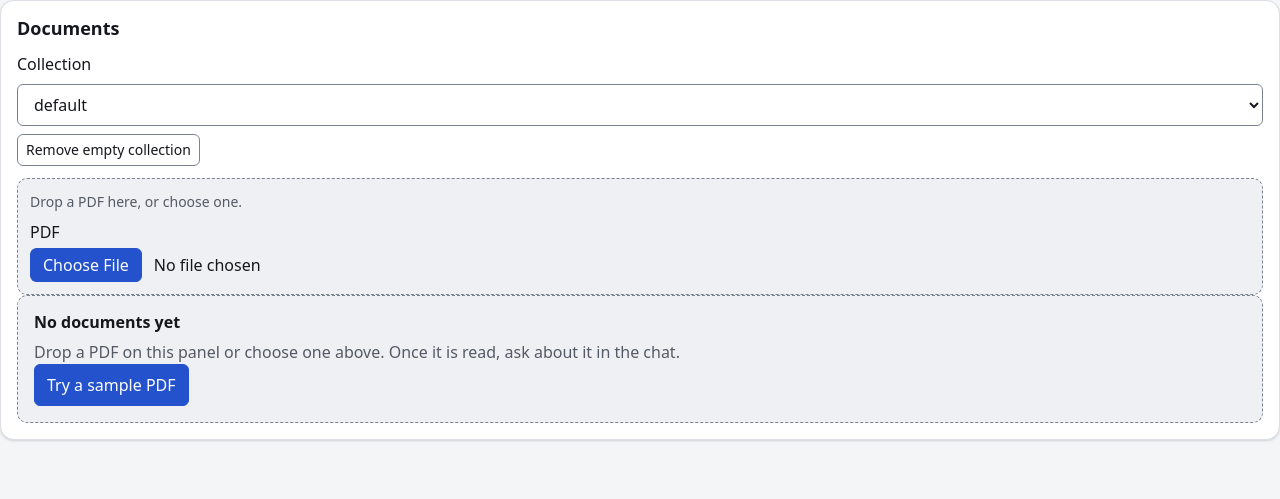
DocumentsPanel › sample PDF › says so, and uploads nothing, when the sample is missing
The width and height of the screenshot is (1280, 499).
Click the button "Try a sample PDF" at (111,384), box [34, 364, 189, 406]
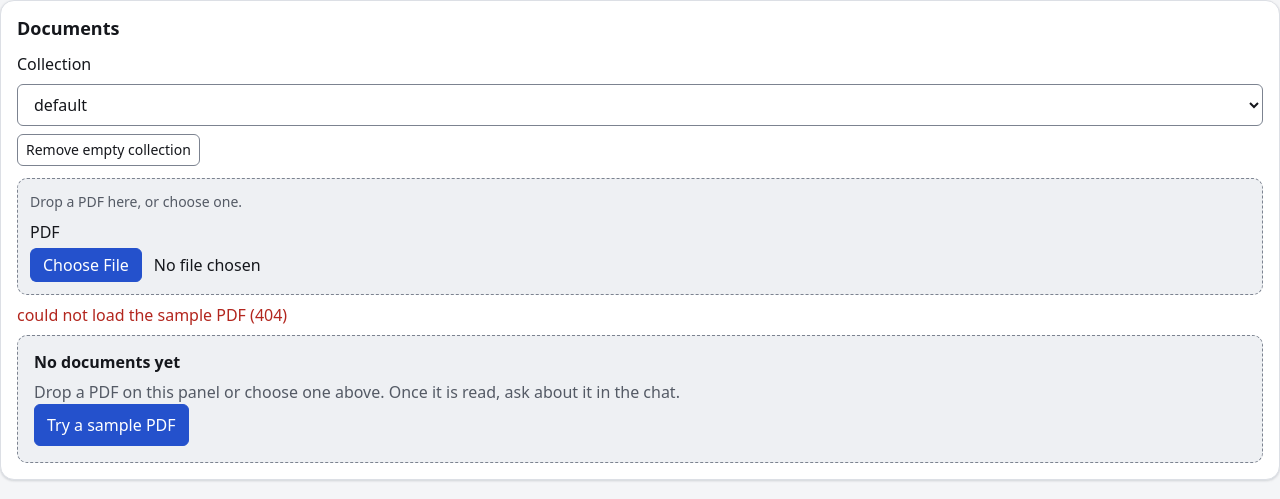
Result: the message reads "could not load the sample PDF (404)" at [17, 304, 287, 326]
